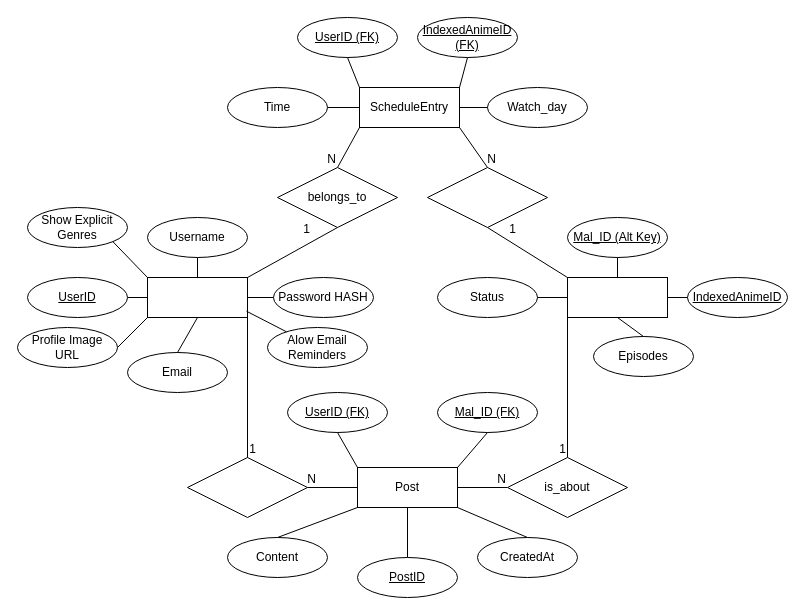
This 805x615 diagram has some shape labels left out. The shapes that lost their labels are listed below. From the top down, each one's centre as x and y in pixels, then its label:
At (487,197): "references".
At (197,297): "User".
At (617,297): "IndexedAnime".
At (247,487): "creates".
